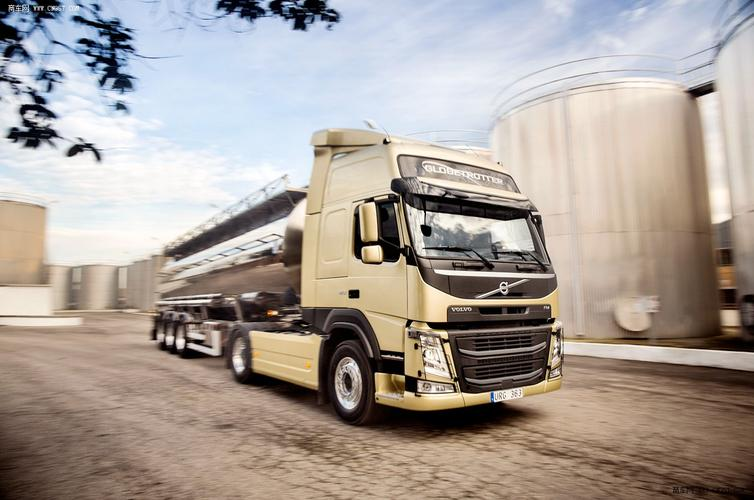卡车: (138, 117, 589, 438)
